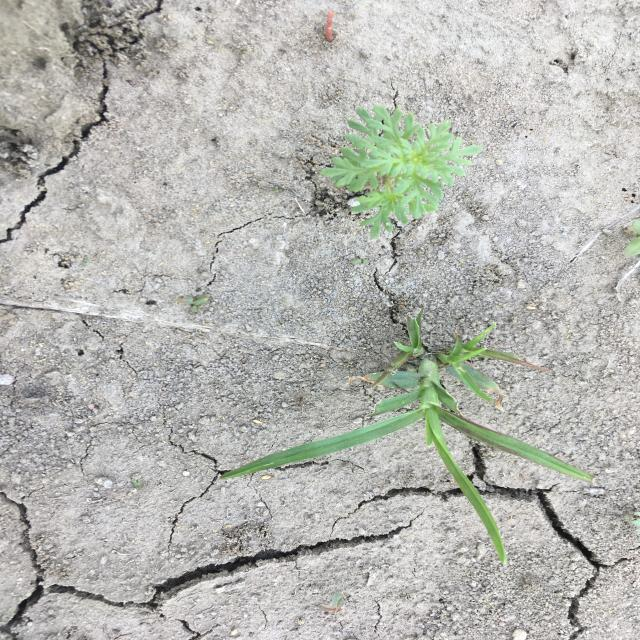Goosegrass: (216, 304, 598, 568)
Ragweed: (316, 103, 484, 240)
